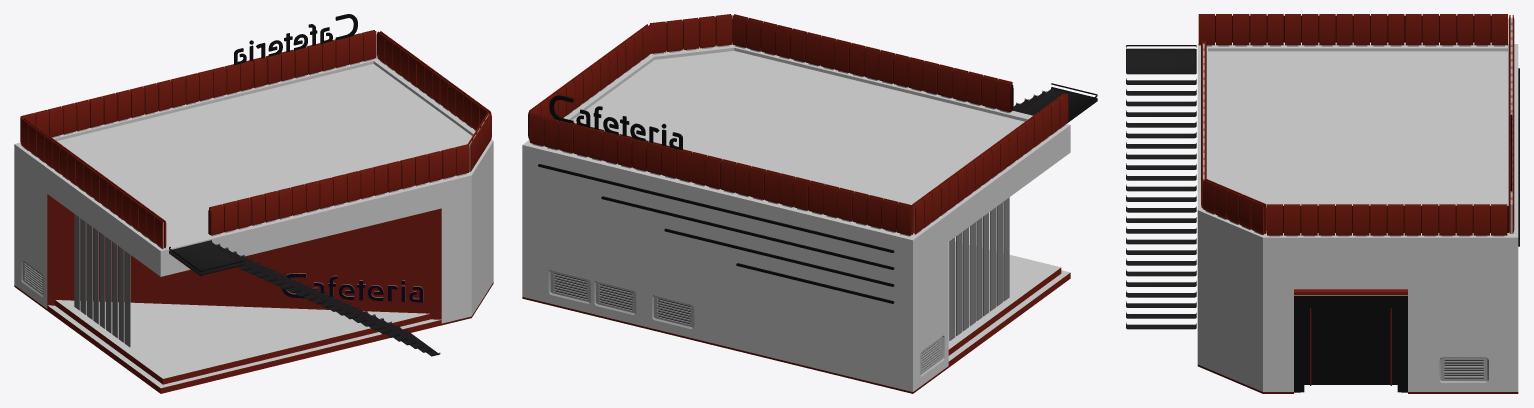
Rendered from Building_Cafe_004_L0.fbx.
The picture shows the model from 3 angles, left to right: view 1: azimuth 30°, elevation 25°; view 2: azimuth 150°, elevation 25°; view 3: azimuth 270°, elevation 25°; orthographic projection. The views are drawn at different scales.
Visible parts, largest first — view 1: Building_Cafe_004_L0; view 2: Building_Cafe_004_L0; view 3: Building_Cafe_004_L0.
Part boxes in pixels (x1,y1,x2,y2): Building_Cafe_004_L0: [14, 14, 493, 393]; Building_Cafe_004_L0: [522, 14, 1097, 393]; Building_Cafe_004_L0: [1126, 14, 1519, 393].
Size of the model in its own units: 13.5 by 6.8 by 11.43.
